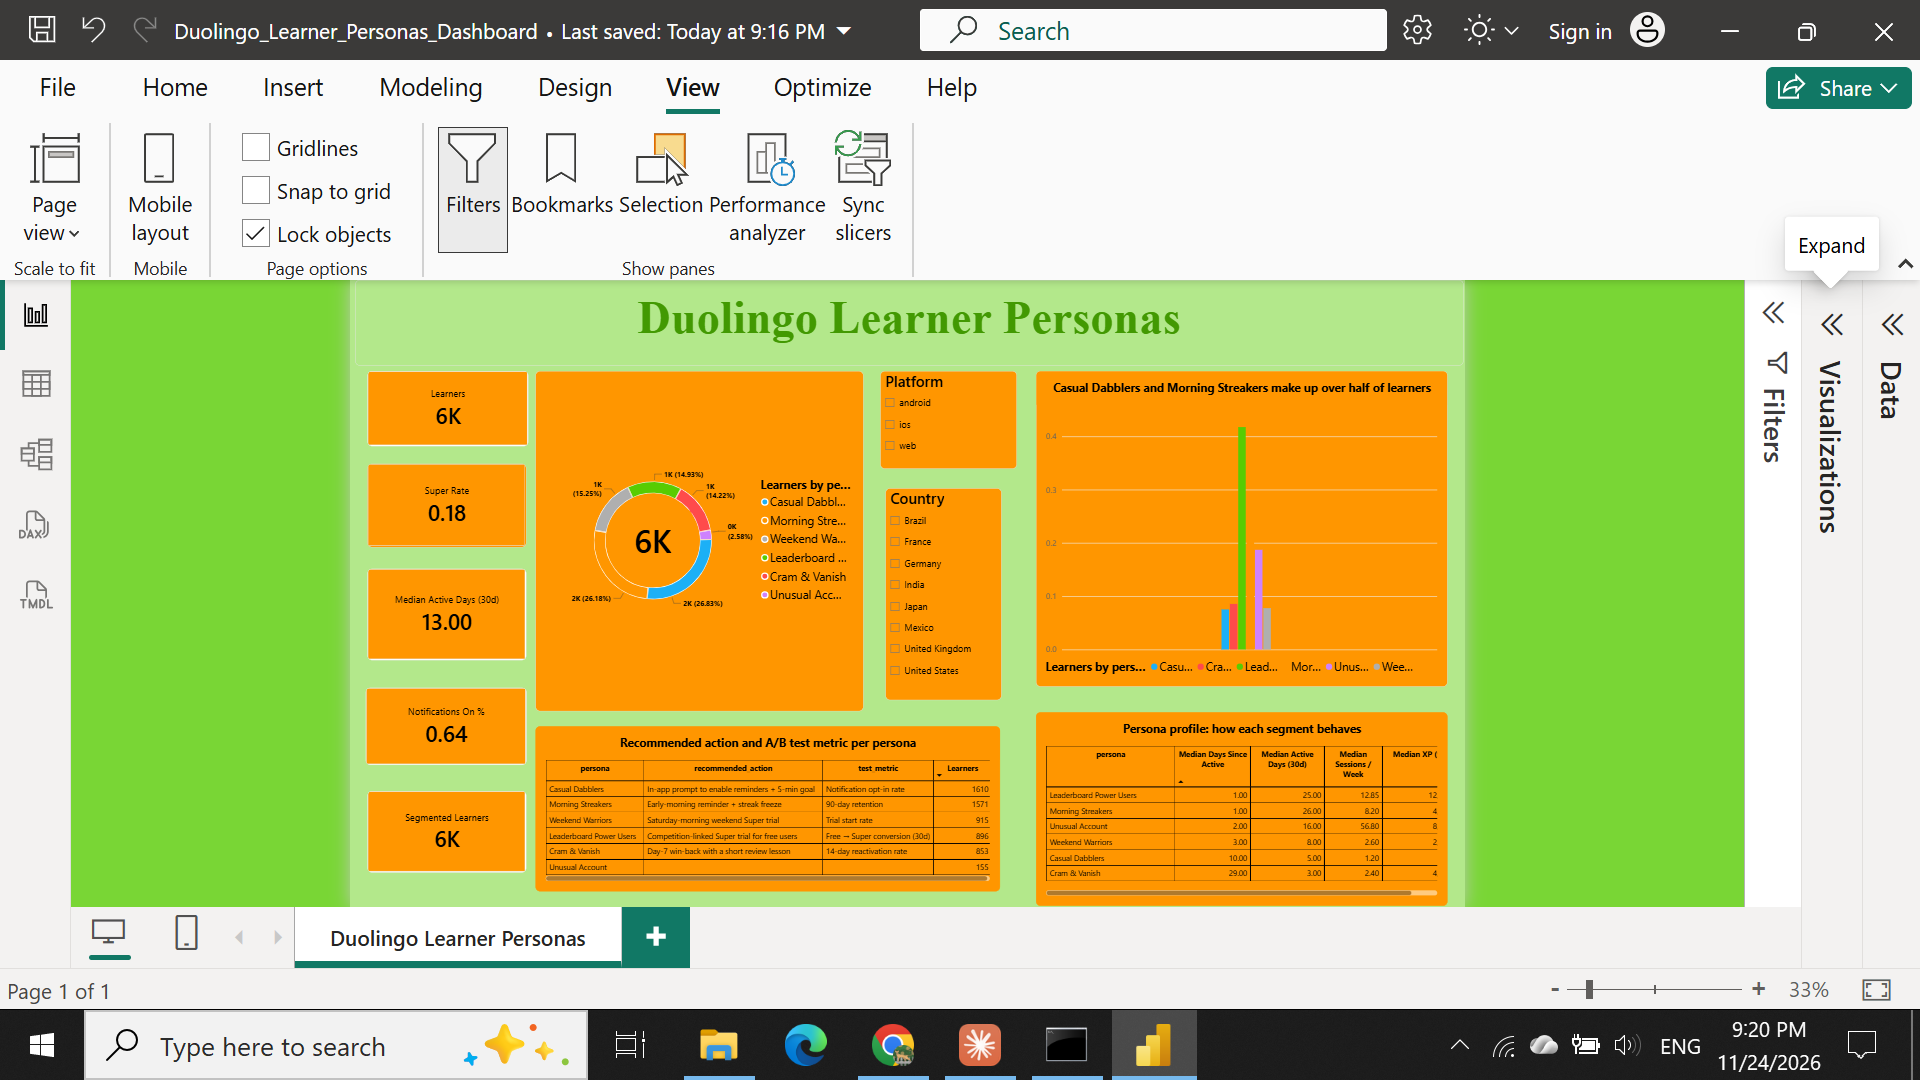

What the dashboard file says about the page in this screenshot:
{"tool":"powerbi","page":{"name":"Duolingo Learner Personas","canvas":[1920,1080],"ordinal":0},"visuals":[{"type":"textbox","box":[10.5,0,1909.5,147.4],"z":0},{"type":"slicer","fields":{"Values":["learners.country"]},"box":[923.1,358,200.1,365],"z":1001},{"type":"slicer","fields":{"Values":["learners.platform"]},"box":[912.6,158,235.2,168.5],"z":1002},{"type":"cardVisual","title":"Learners","fields":{"Data":["learners.Learners"]},"box":[31.6,158,277.3,129.9],"z":1003},{"type":"cardVisual","title":"Learners","fields":{"Data":["learners.Segmented Learners"]},"box":[31.6,881,273.8,140.4],"z":1004},{"type":"cardVisual","title":"Learners","fields":{"Data":["learners.Super Rate"]},"box":[31.6,315.9,273.8,143.9],"z":1005},{"type":"cardVisual","title":"Learners","fields":{"Data":["learners.Notifications On %"]},"box":[28.1,702,277.3,133.4],"z":1006},{"type":"cardVisual","title":"Learners","fields":{"Data":["learners.Median Active Days (30d)"]},"box":[31.6,498.4,273.8,158],"z":1007},{"type":"donutChart","title":"Learners","fields":{"Category":["learners.persona"],"Y":["learners.Learners"]},"box":[319.4,158,565.1,586.2],"z":1008},{"type":"clusteredColumnChart","title":"Casual Dabblers and Morning Streakers make up over half of learners","fields":{"Series":["learners.persona"],"Y":["learners.Super Rate"]},"box":[1182.9,158,709,544.1],"z":1009},{"type":"tableEx","title":"Persona profile: how each segment behaves","fields":{"Values":["learners.persona","learners.Median Days Since Active","learners.Median Active Days (30d)","learners.Median Sessions / Week","learners.Median XP (90d)"]},"box":[1182.9,744.1,709,333.5],"z":1010},{"type":"tableEx","title":"Recommended action and A/B test metric per persona","fields":{"Values":["learners.persona","persona.recommended_action","persona.test_metric","learners.Learners"]},"box":[319.4,768.7,800.3,284.3],"z":1011}]}

Visuals, with their boxes on the page's 1920x1080 design canvas (x1, y1, x2, y2). These are canvas units, not pixel positions in the 1920x1080 screenshot, which may show the page scaled, cropped or inside an application window:
textbox: (left=10, top=0, right=1920, bottom=147)
slicer - learners.country: (left=923, top=358, right=1123, bottom=723)
slicer - learners.platform: (left=913, top=158, right=1148, bottom=326)
"Learners" cardVisual: (left=32, top=158, right=309, bottom=288)
"Learners" cardVisual: (left=32, top=881, right=305, bottom=1021)
"Learners" cardVisual: (left=32, top=316, right=305, bottom=460)
"Learners" cardVisual: (left=28, top=702, right=305, bottom=835)
"Learners" cardVisual: (left=32, top=498, right=305, bottom=656)
"Learners" donutChart: (left=319, top=158, right=884, bottom=744)
"Casual Dabblers and Morning Streakers make up over half of learners" clusteredColumnChart: (left=1183, top=158, right=1892, bottom=702)
"Persona profile: how each segment behaves" tableEx: (left=1183, top=744, right=1892, bottom=1078)
"Recommended action and A/B test metric per persona" tableEx: (left=319, top=769, right=1120, bottom=1053)
